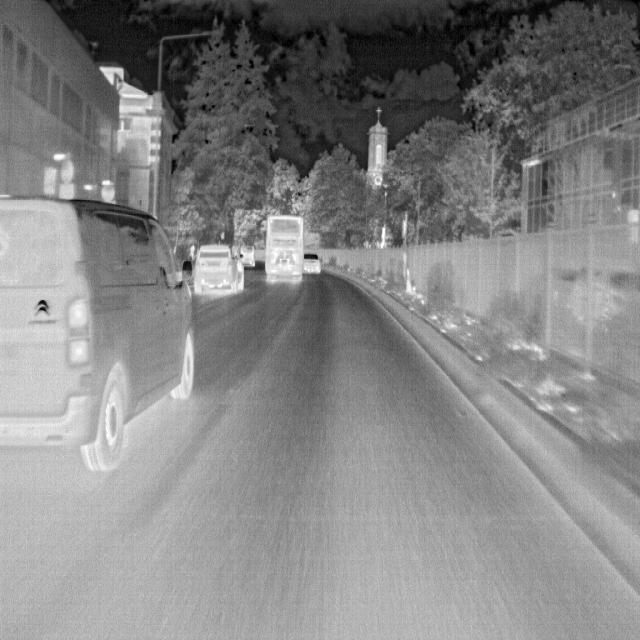Vehicle: (0, 184, 197, 476), (193, 242, 248, 294), (266, 216, 304, 284)
